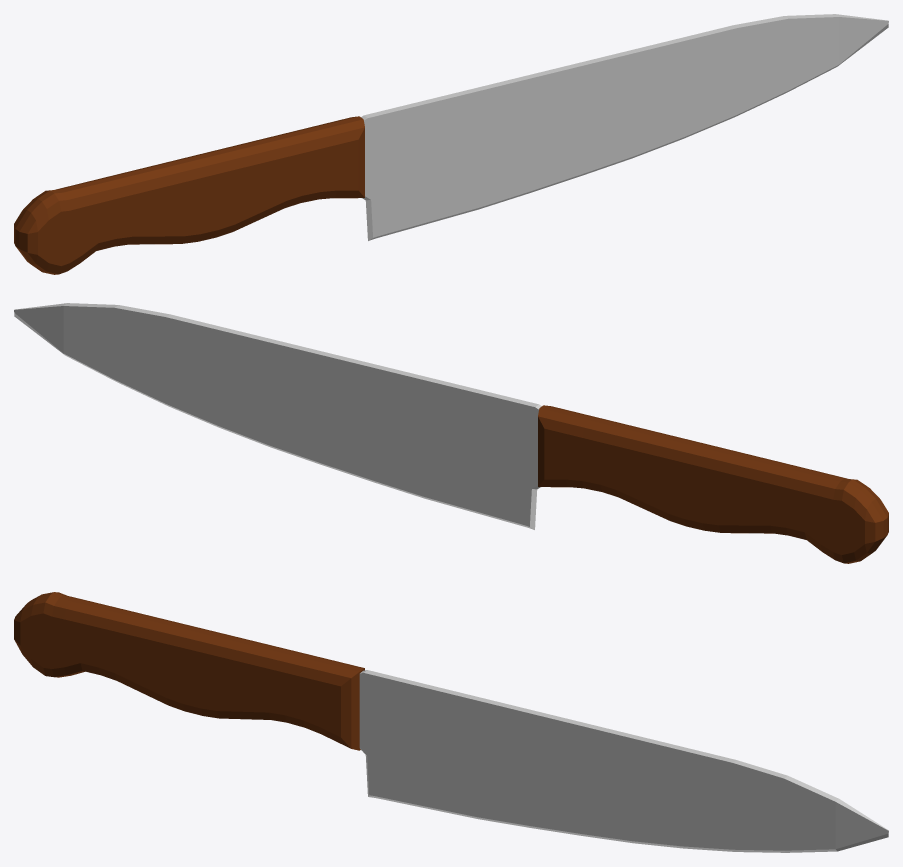
Rendered from KitchenKnife.glb.
3 views of the same model, one above another, from view 1: azimuth 30°, elevation 25°; view 2: azimuth 150°, elevation 25°; view 3: azimuth 330°, elevation 25° (orthographic).
Parts seen in each view (by area): view 1: KitchenKnife; view 2: KitchenKnife; view 3: KitchenKnife.
Part boxes in pixels (<box>): KitchenKnife: <box>14,14,888,274</box>; KitchenKnife: <box>14,303,888,563</box>; KitchenKnife: <box>14,592,888,852</box>.
Bounding box in the file's own units: 0.347 × 0.0481 × 0.0122.
Materials: 1 (1 with a texture image).
